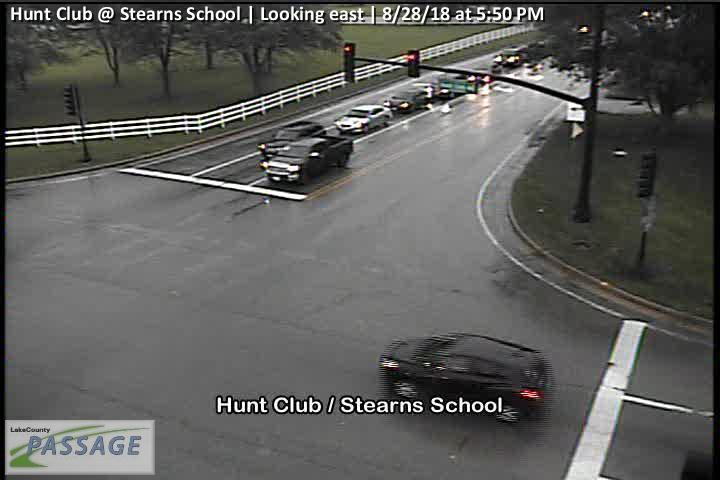SUV: (377, 332, 550, 427)
Sedan: (259, 121, 325, 163), (336, 104, 392, 135), (384, 89, 429, 113)
Truck: (264, 134, 354, 190)
